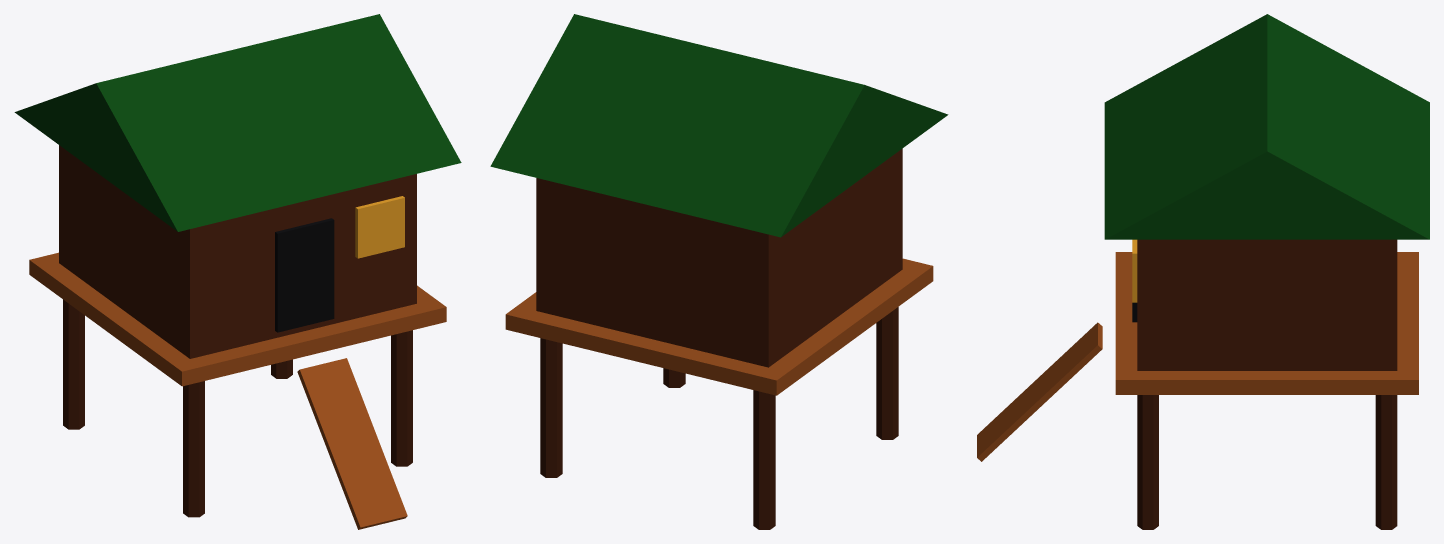
The model's file is stilt_hut.obj.
3 views of the same model, side by side, from view 1: azimuth 30°, elevation 25°; view 2: azimuth 150°, elevation 25°; view 3: azimuth 270°, elevation 25° (orthographic). The views are drawn at different scales.
Parts seen in each view (by area): view 1: stilt_hut; view 2: stilt_hut; view 3: stilt_hut.
Boxes of the visible parts, box(x1,y1,x2,y2) form: stilt_hut: box(14, 14, 461, 529); stilt_hut: box(490, 14, 948, 529); stilt_hut: box(977, 14, 1429, 529).
Size of the model in its own units: 3 by 4 by 4.18.
